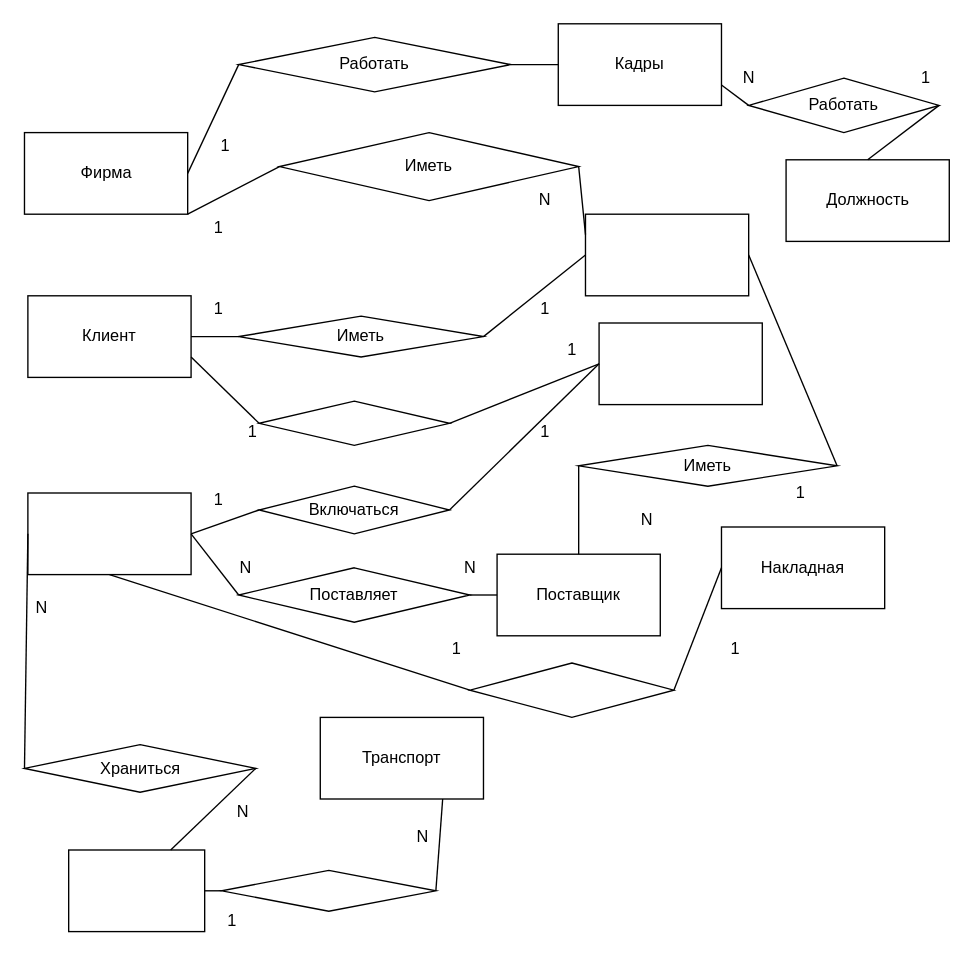
Some shapes in this 972 by 959 pixel diagram are drawn without their labels. Each missing label, with the box of its shape:
Заказ: (598, 322, 762, 405)
Заказывать: (258, 400, 449, 445)
Принадлежать: (220, 869, 436, 911)
Склад: (67, 849, 205, 932)
Счет: (584, 213, 749, 296)
Товар: (27, 492, 191, 575)
Учитываться: (469, 662, 674, 717)
